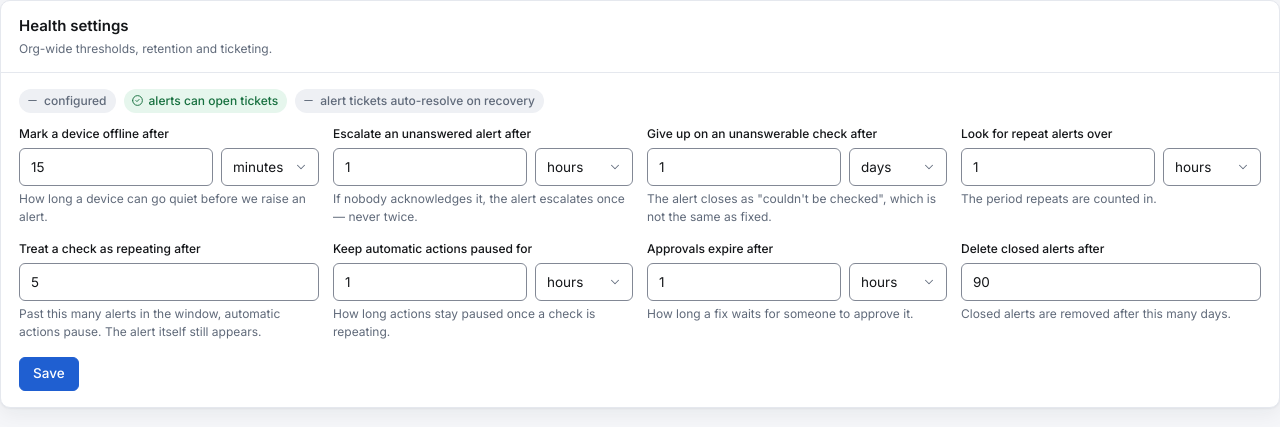
HealthSettingsPanel › enforces the server's bound instead of hanging a decorative max on the input
Step 1. Replace the text in the field labelled "Delete closed alerts after" with "5000" → (1111, 282), box [961, 263, 1261, 301]
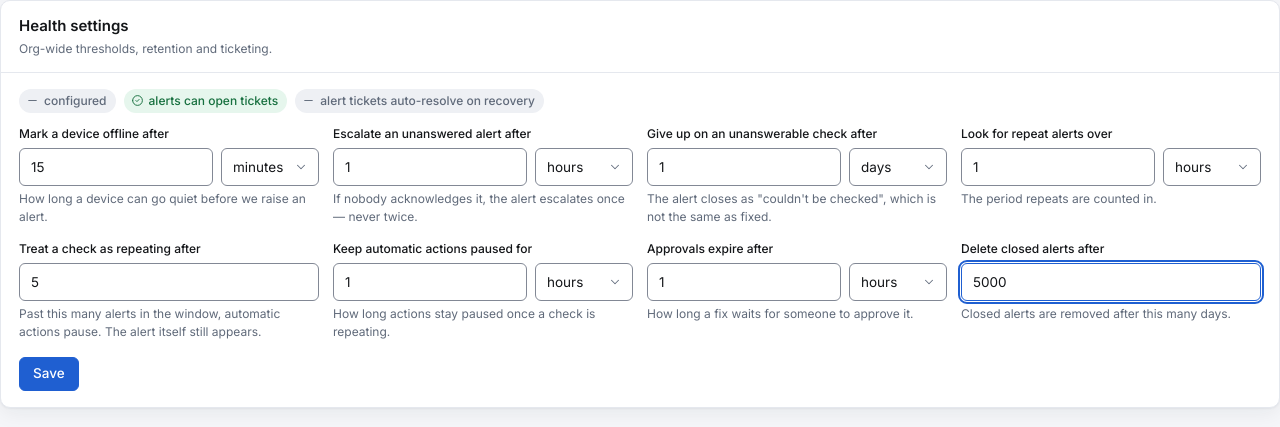
Step 2. Click the button "Save" → (49, 374), box [19, 357, 79, 390]
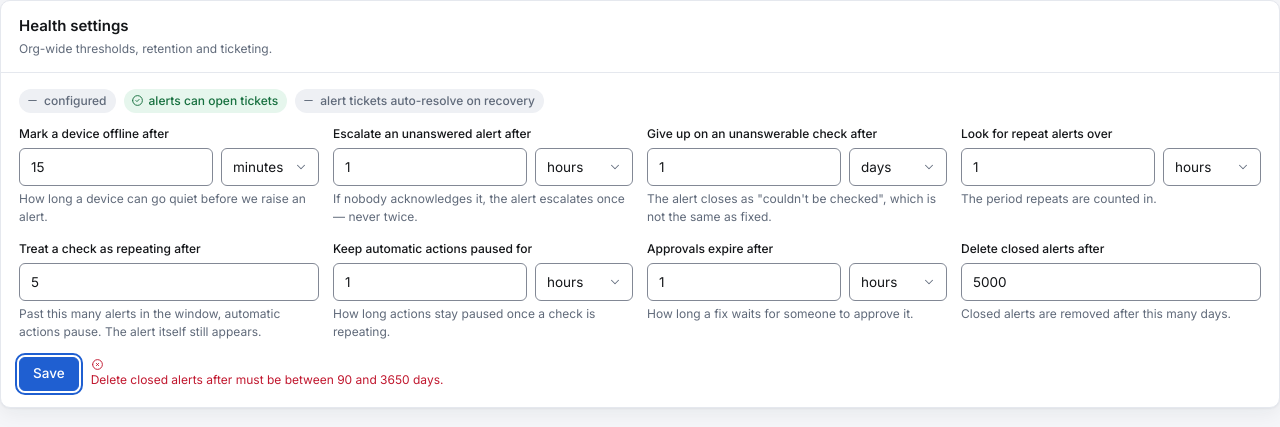
Result: the message shows "Delete closed alerts after must be between 90 and 3650 days" at [91, 372, 440, 387]
